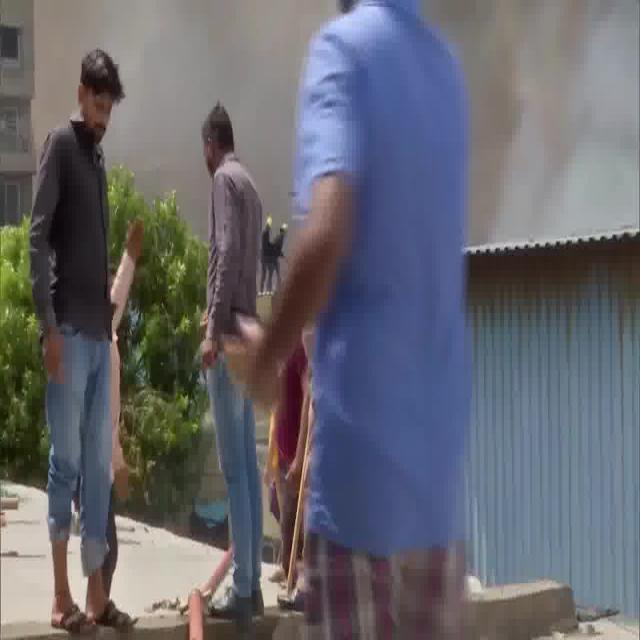smoke: (125, 12, 199, 145), (211, 9, 296, 100)
